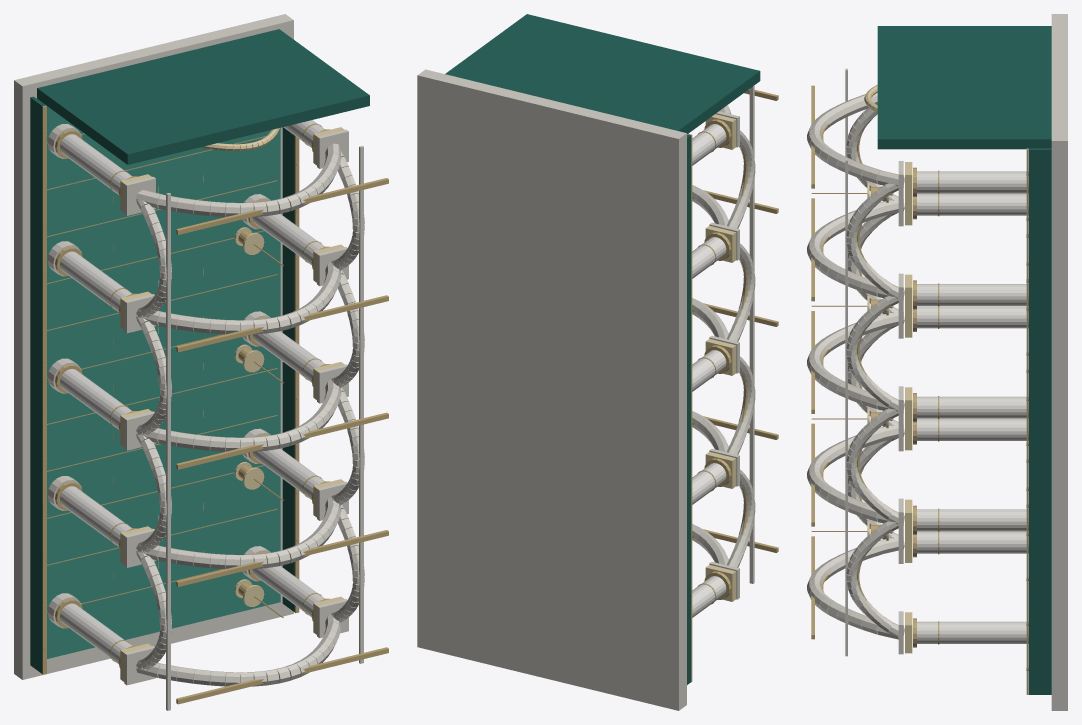
File: grandeur_mosque.glb
3 views of the same model, side by side, from view 1: azimuth 30°, elevation 25°; view 2: azimuth 150°, elevation 25°; view 3: azimuth 270°, elevation 25° (orthographic). The views are drawn at different scales.
Parts seen in each view (by area): view 1: rug, ivory, deepgreen, gold, marble, goldlight; view 2: ivory, deepgreen, gold, marble, goldlight; view 3: ivory, deepgreen, marble, gold, goldlight.
Part boxes in pixels (x1,y1,x2,y2): rug: (36, 98, 280, 658); ivory: (14, 14, 364, 710); deepgreen: (30, 29, 369, 673); gold: (42, 105, 388, 704); marble: (60, 120, 324, 664); goldlight: (120, 127, 344, 681); ivory: (417, 69, 755, 710); deepgreen: (445, 14, 760, 684); gold: (688, 89, 778, 682); marble: (692, 124, 726, 617); goldlight: (705, 114, 736, 601); ivory: (807, 14, 1067, 710); deepgreen: (877, 26, 1051, 694); marble: (917, 171, 1028, 643); gold: (811, 85, 1028, 694); goldlight: (864, 85, 912, 653).
Size of the model in its own units: 12.1 by 25.3 by 10.5.
